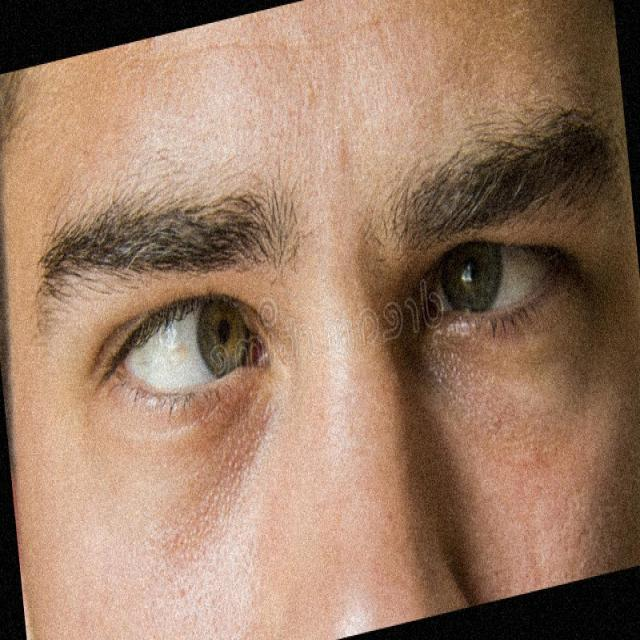Healthy-Eye: (398, 218, 592, 322)
Squint: (77, 274, 291, 436)
